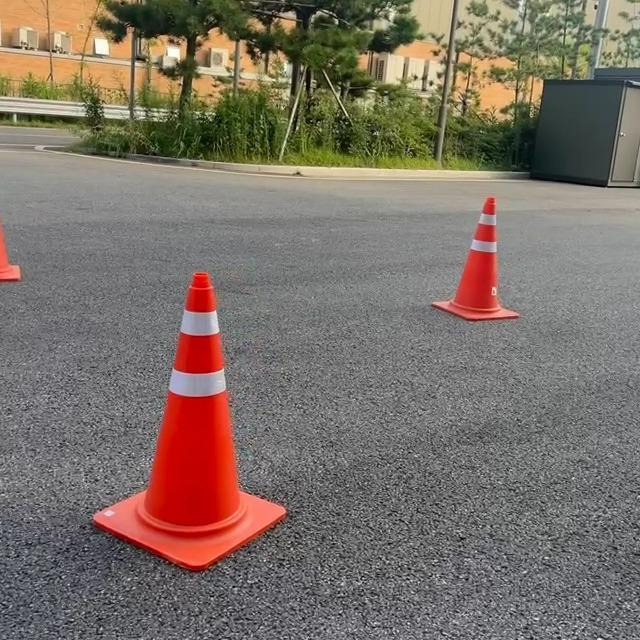fallen_object: (86, 243, 313, 603), (403, 176, 563, 362)
